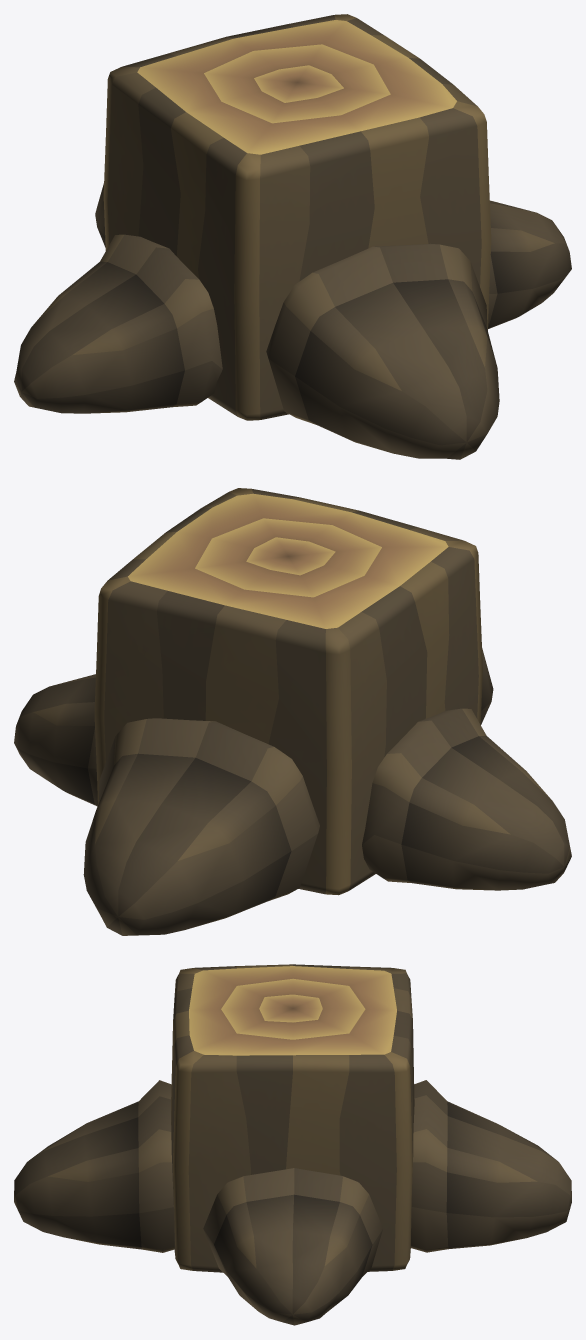
The model's file is stump.fbx.
3 renders of one model, top to bottom at view 1: azimuth 30°, elevation 25°; view 2: azimuth 150°, elevation 25°; view 3: azimuth 270°, elevation 25°, orthographic. The views are drawn at different scales.
Visible parts, largest first — view 1: stump_LOD0; view 2: stump_LOD0; view 3: stump_LOD0.
Part boxes in pixels (left/top/right/bottom): stump_LOD0: left=14, top=14, right=571, bottom=459; stump_LOD0: left=14, top=488, right=571, bottom=935; stump_LOD0: left=14, top=964, right=571, bottom=1325.
Size of what is drawn, in the model's own units: 229 by 109 by 248.
